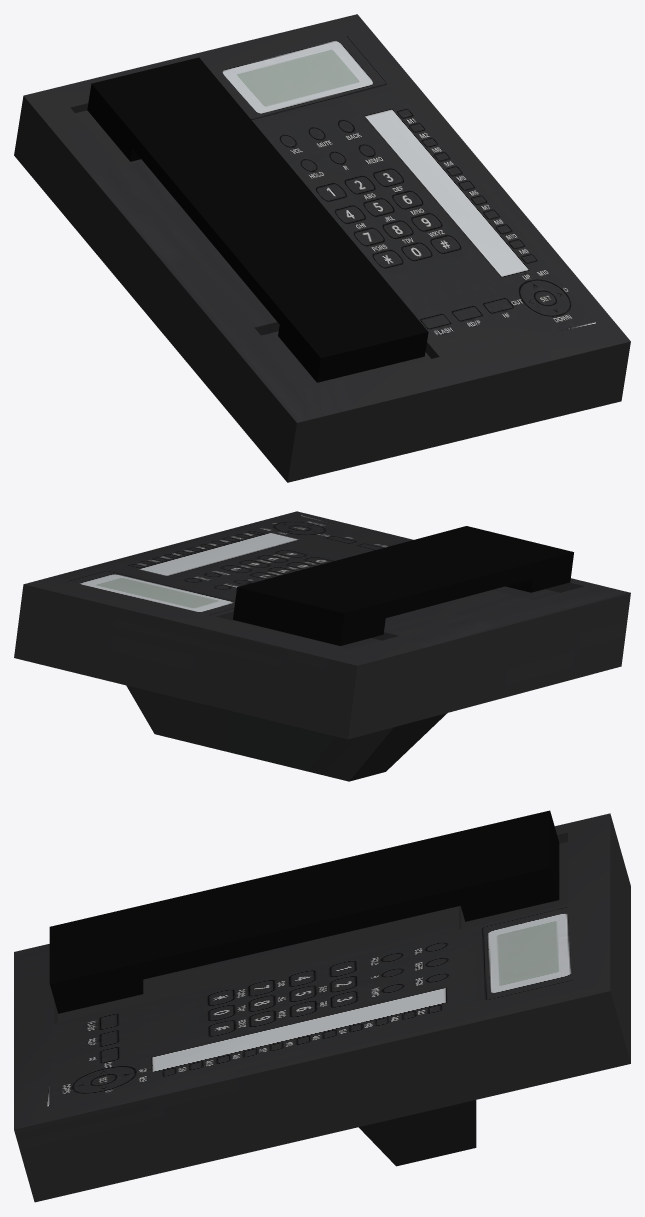
File: Phone.fbx
3 views of the same model, one above another, from view 1: azimuth 30°, elevation 25°; view 2: azimuth 150°, elevation 25°; view 3: azimuth 270°, elevation 25° (orthographic). The views are drawn at different scales.
Parts seen in each view (by area): view 1: Cube, Cube.001; view 2: Cube, Cube.001; view 3: Cube, Cube.001.
Boxes of the visible parts, bbox=[...] form: Cube: bbox=[14, 14, 630, 482]; Cube.001: bbox=[87, 57, 428, 382]; Cube: bbox=[14, 511, 630, 781]; Cube.001: bbox=[233, 526, 573, 645]; Cube: bbox=[14, 813, 630, 1202]; Cube.001: bbox=[49, 810, 559, 1013].
Size of the model in its own units: 134 by 83.24 by 197.
